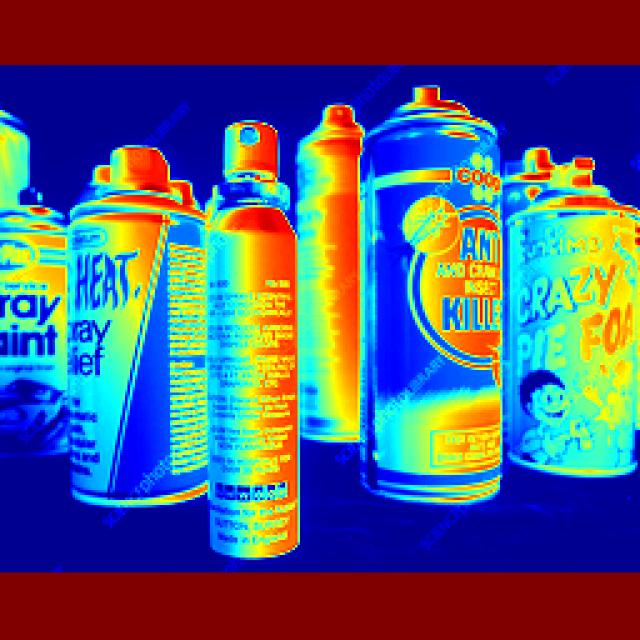Aerosol Cans: (352, 84, 518, 515), (44, 132, 217, 503), (198, 116, 312, 563)
